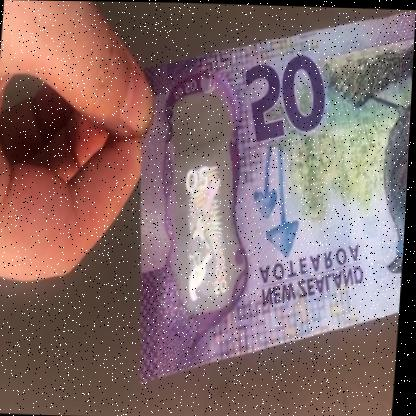50B: (159, 112, 240, 304)
